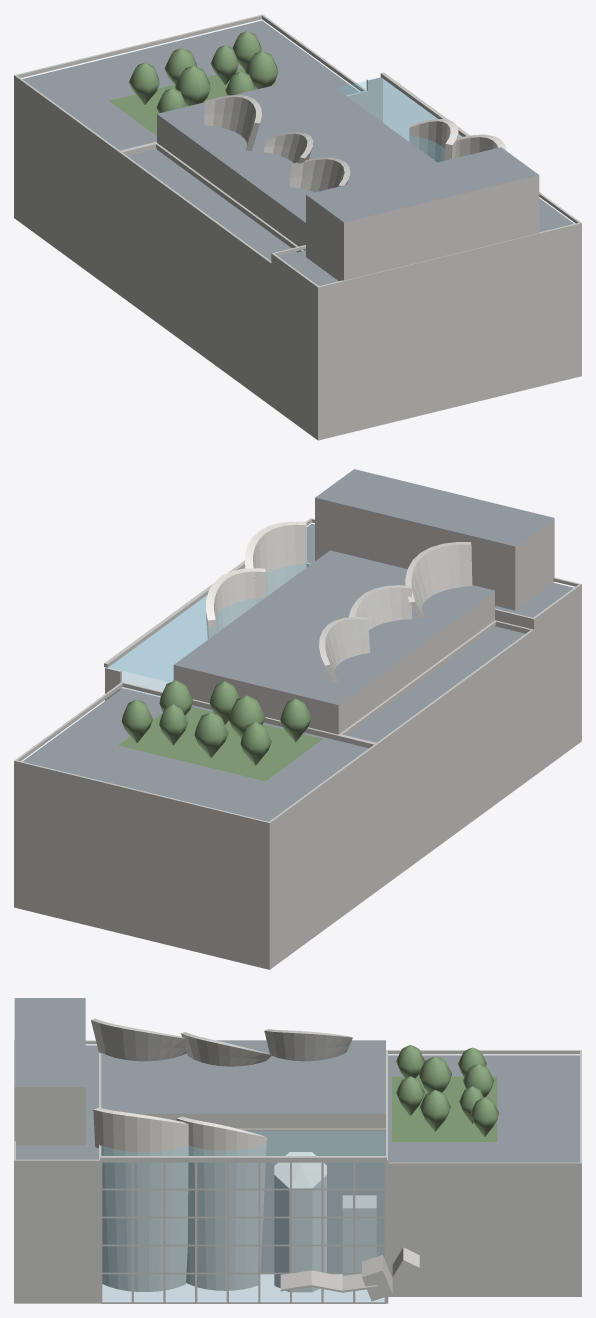
The model's file is mia-new-world-center.glb.
The picture shows the model from 3 angles, top to bottom: view 1: azimuth 30°, elevation 25°; view 2: azimuth 150°, elevation 25°; view 3: azimuth 270°, elevation 25°; orthographic projection. The views are drawn at different scales.
Visible parts, largest first — view 1: New World Center; view 2: New World Center; view 3: New World Center.
Boxes of the visible parts, x1,y1,x2,y2 form: New World Center: [14, 14, 581, 440]; New World Center: [14, 469, 581, 969]; New World Center: [14, 998, 581, 1303].
Size of the model in its own units: 52.5 by 35.2 by 91.8.
